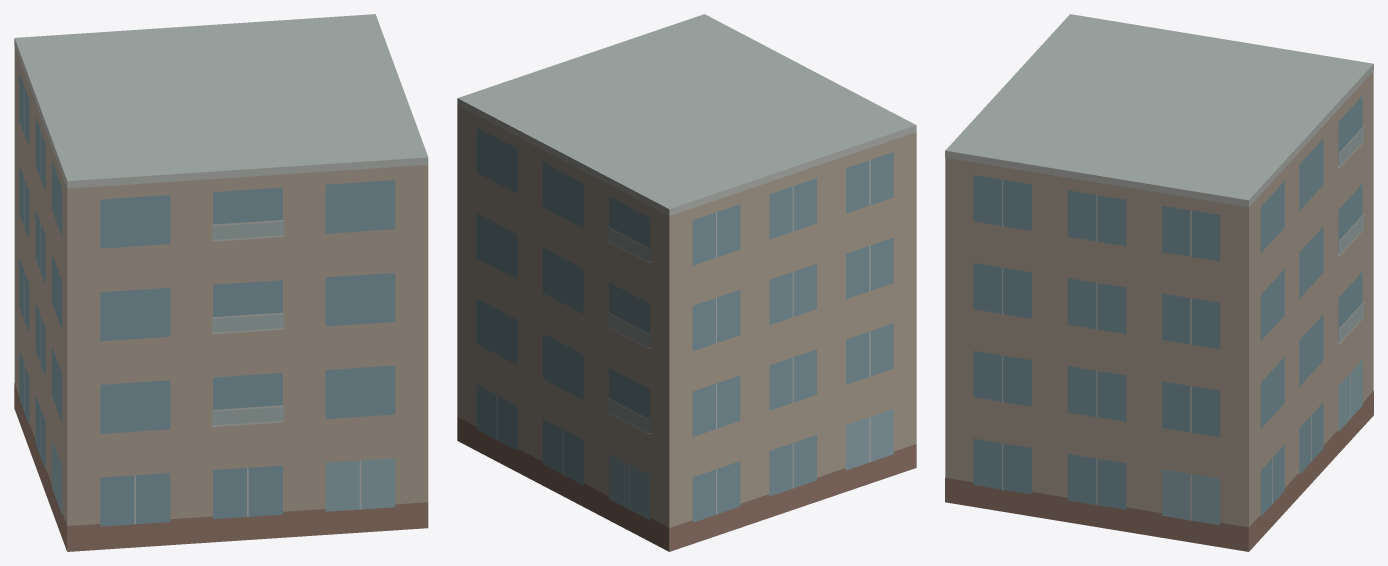
Rendered from residential-a45b65ae-bd6c-49f7-9fa7-31b958ec2ab5.glb.
3 renders of one model, left to right at view 1: azimuth 30°, elevation 25°; view 2: azimuth 150°, elevation 25°; view 3: azimuth 270°, elevation 25°, orthographic. The views are drawn at different scales.
Visible parts, largest first — view 1: residential-a45b65ae-bd6c-49f7-9fa7-31b958ec2ab5.tmp; view 2: residential-a45b65ae-bd6c-49f7-9fa7-31b958ec2ab5.tmp; view 3: residential-a45b65ae-bd6c-49f7-9fa7-31b958ec2ab5.tmp.
Boxes of the visible parts, x1,y1,x2,y2 form: residential-a45b65ae-bd6c-49f7-9fa7-31b958ec2ab5.tmp: (14,14,428,551); residential-a45b65ae-bd6c-49f7-9fa7-31b958ec2ab5.tmp: (457,14,916,551); residential-a45b65ae-bd6c-49f7-9fa7-31b958ec2ab5.tmp: (945,14,1373,551).
Size of the model in its own units: 13.88 by 12.2 by 13.49.
